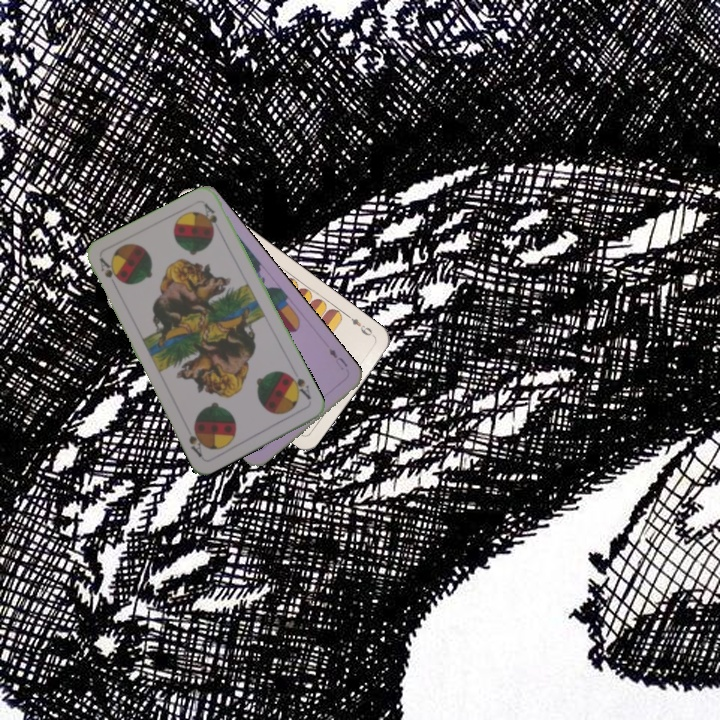E9: (343, 311, 377, 340)
EU: (325, 344, 350, 373)
SA: (95, 254, 122, 292), (284, 370, 314, 402)
